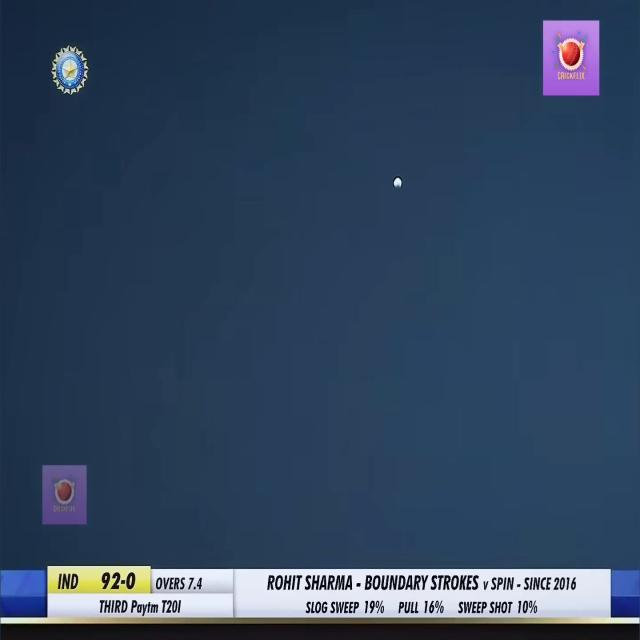fully_visible: (128, 595, 160, 618)
